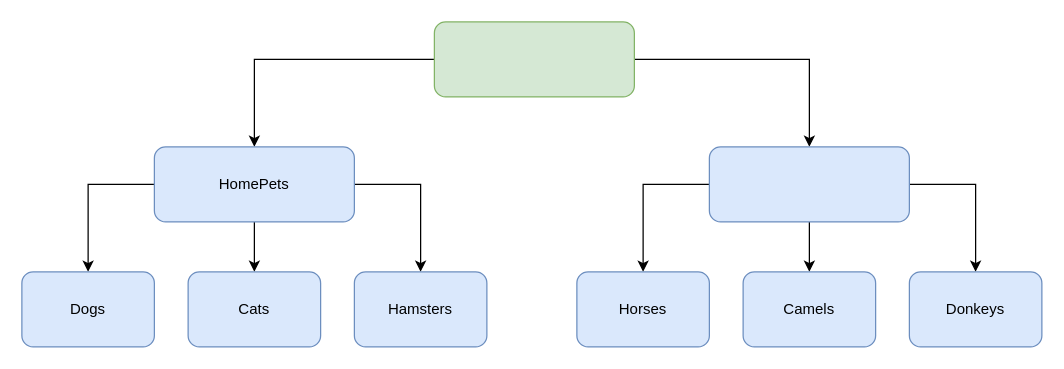
Image size: 1064x369. Some labels were removed from this diagram. Each missing label, with the centre of its shape:
"PackAnimals" belongs at pixel 808 184.
"Родительский класс Animals" belongs at pixel 533 59.
